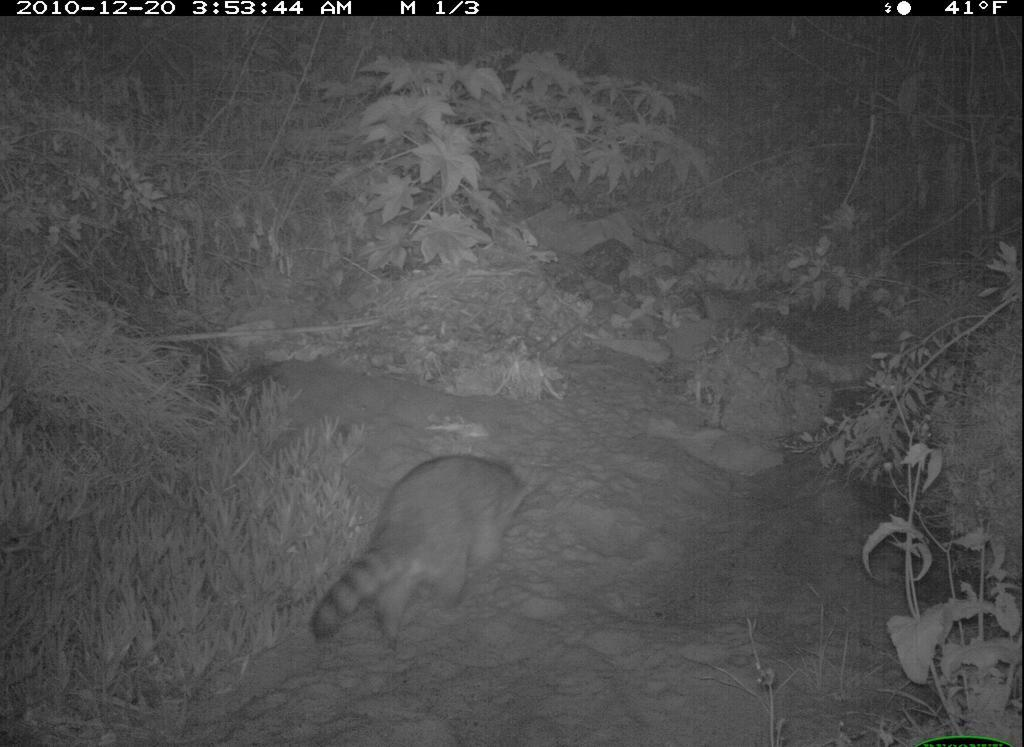raccoon: (304, 449, 537, 652)
